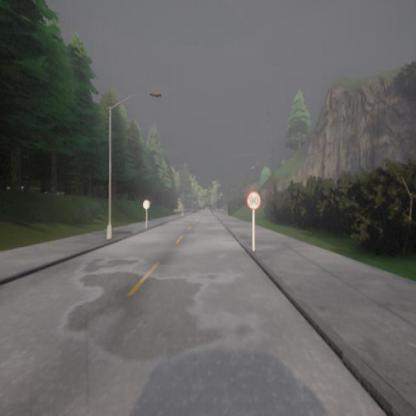traffic_sign_90: (246, 192, 261, 210)
